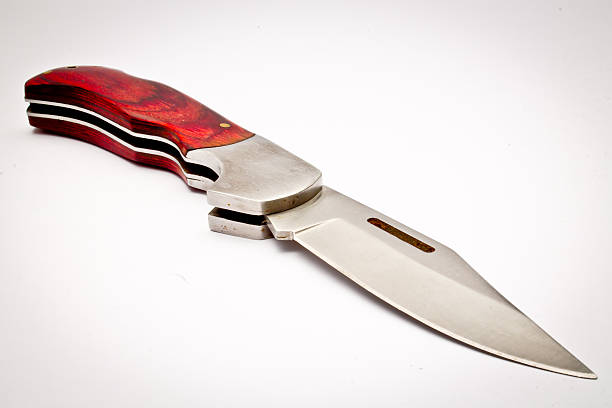knife: (22, 63, 599, 381)
